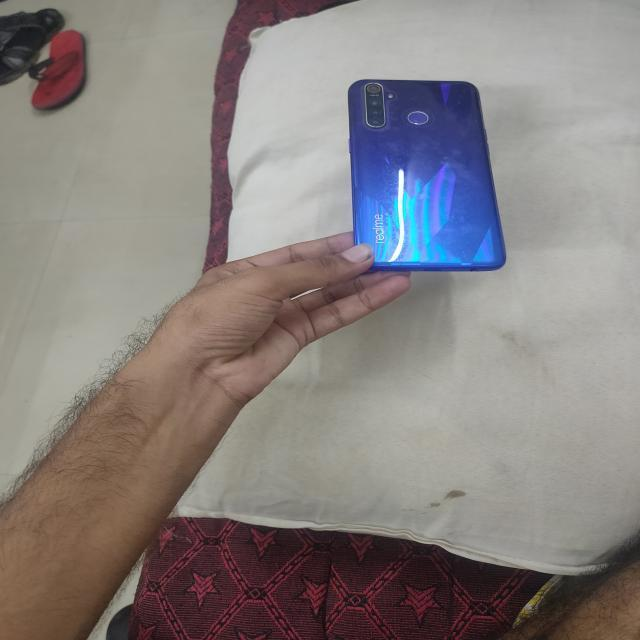Phone: (346, 74, 510, 280)
